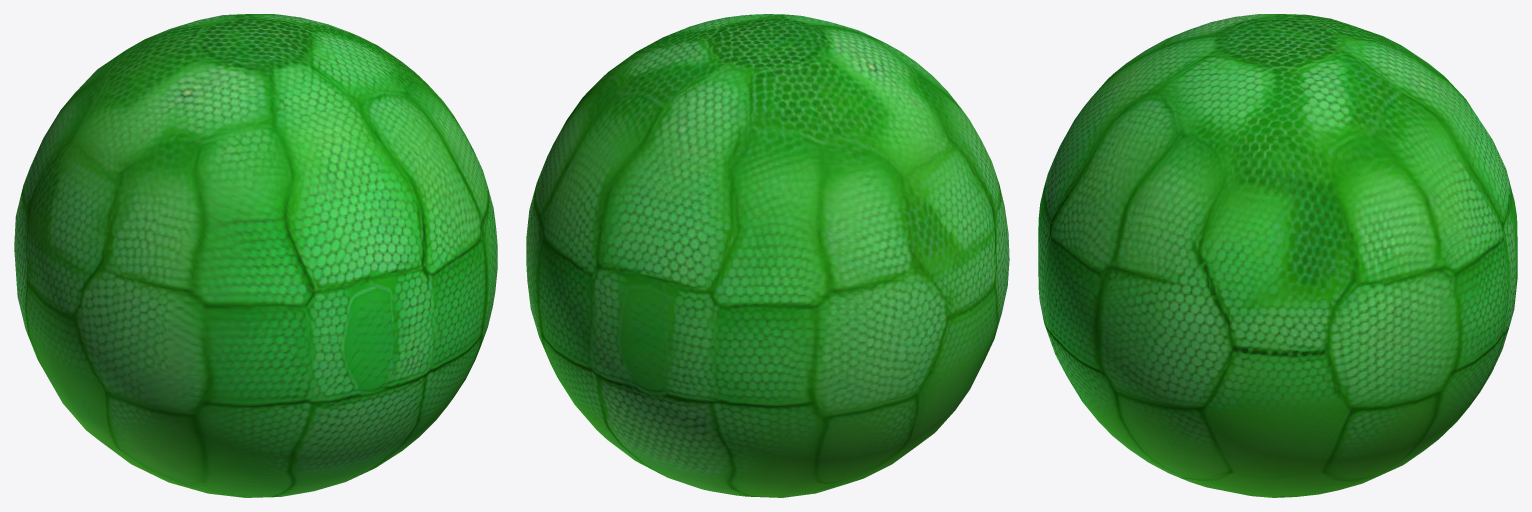
File: 09-6493507-Neon-Green-Soccer-Ball-model-pack.glb
The picture shows the model from 3 angles, left to right: view 1: azimuth 30°, elevation 25°; view 2: azimuth 150°, elevation 25°; view 3: azimuth 270°, elevation 25°; orthographic projection.
Parts seen in each view (by area): view 1: Retopo_neural_node_46f89ccf-59b7-49f2-ab11-c570776b419c; view 2: Retopo_neural_node_46f89ccf-59b7-49f2-ab11-c570776b419c; view 3: Retopo_neural_node_46f89ccf-59b7-49f2-ab11-c570776b419c.
Part boxes in pixels (x1,y1,x2,y2): Retopo_neural_node_46f89ccf-59b7-49f2-ab11-c570776b419c: (14,14,497,497); Retopo_neural_node_46f89ccf-59b7-49f2-ab11-c570776b419c: (526,14,1009,497); Retopo_neural_node_46f89ccf-59b7-49f2-ab11-c570776b419c: (1038,14,1517,497).
Size of the model in its own units: 0.9496 by 0.9431 by 0.9483.
Materials: 1 (1 with a texture image).
